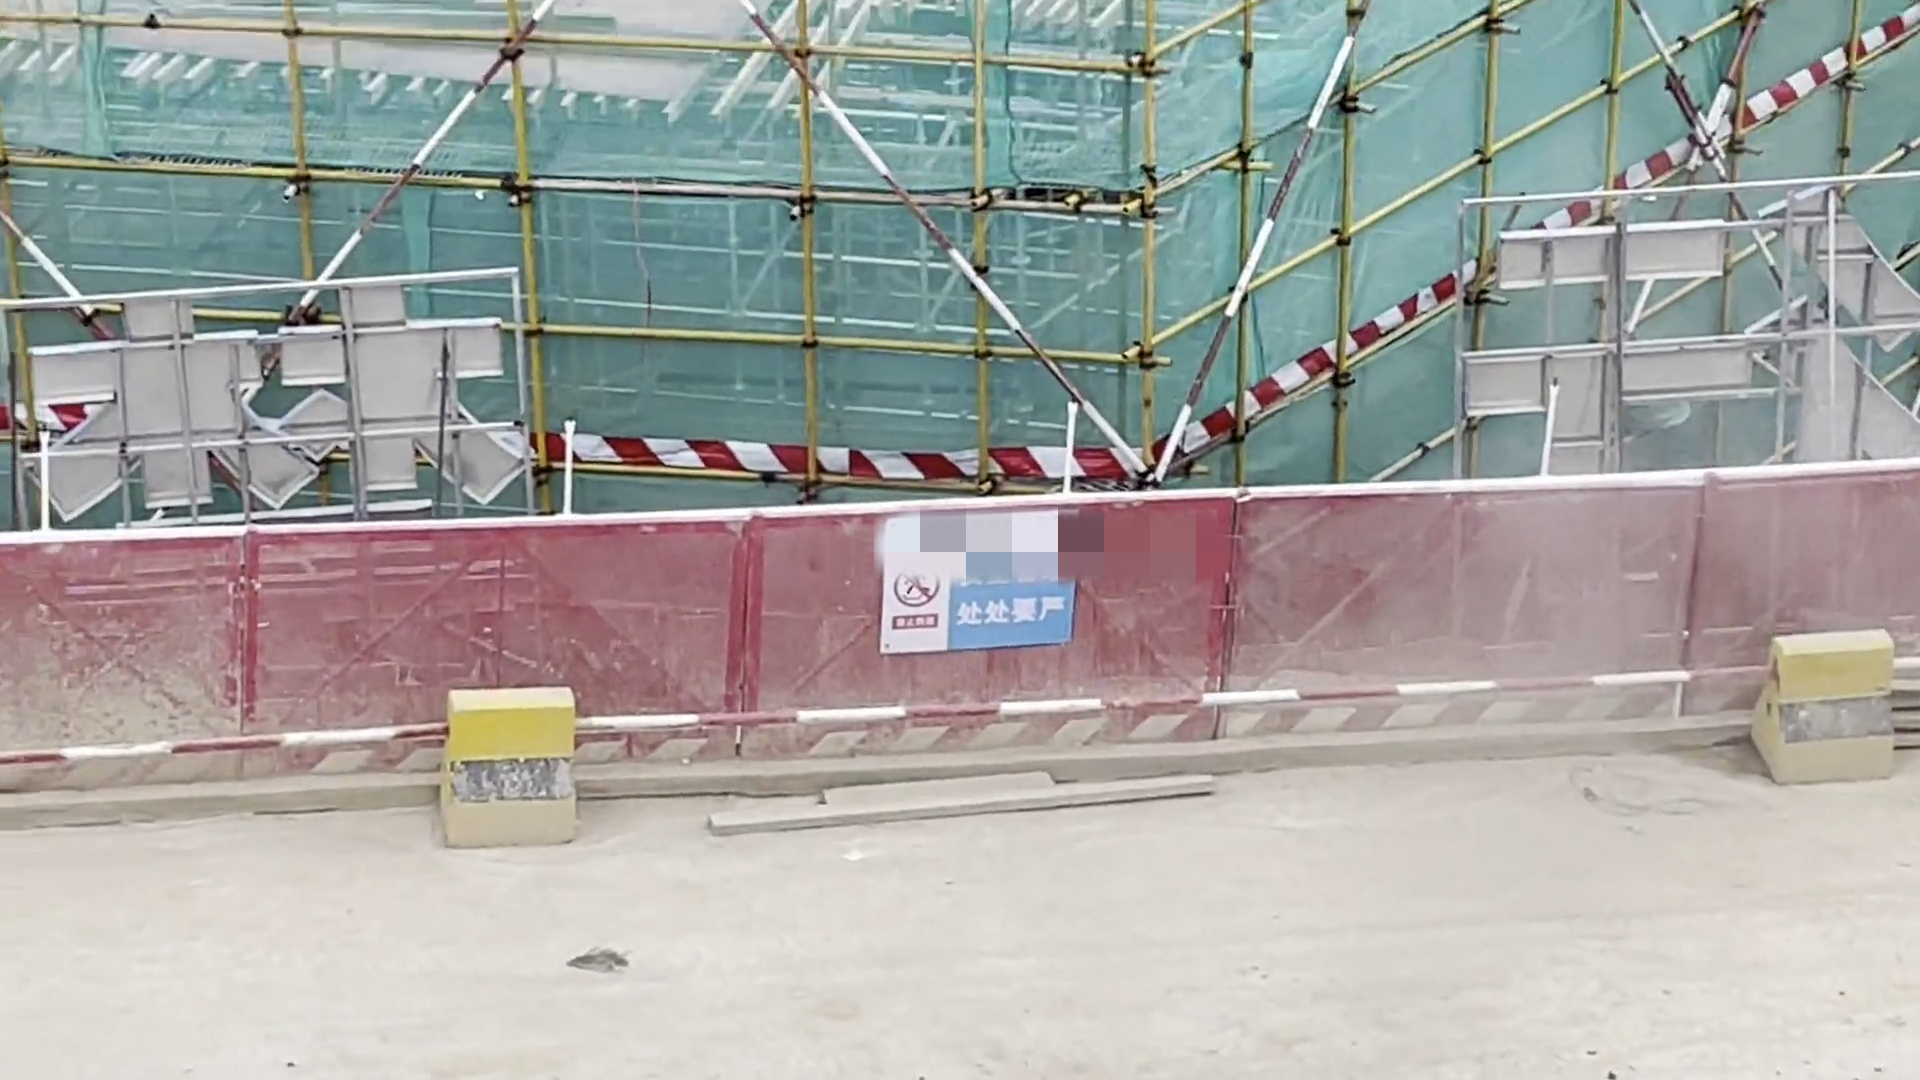fence: (1, 488, 1824, 731)
slogan: (872, 504, 1092, 658)
